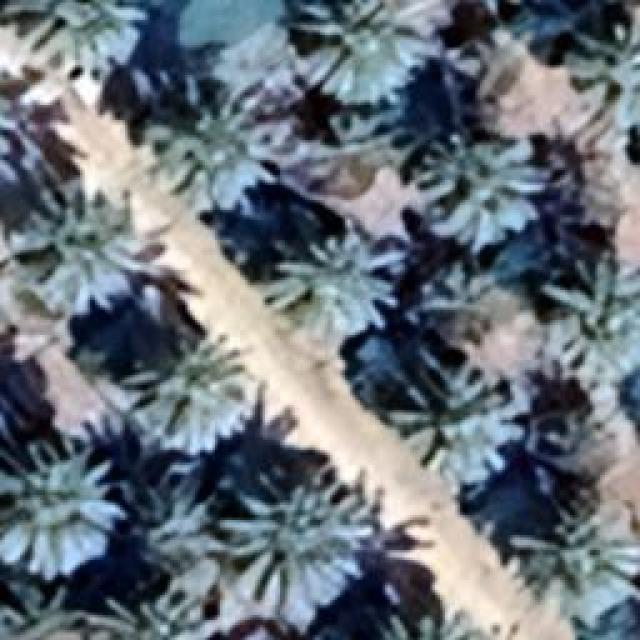PalmTree: (218, 460, 372, 625), (18, 182, 172, 320), (137, 82, 300, 210), (0, 435, 128, 580), (380, 358, 515, 490), (260, 230, 402, 350), (117, 332, 250, 458), (415, 135, 550, 255), (310, 102, 425, 240), (299, 0, 442, 102), (0, 0, 149, 75), (560, 20, 638, 155), (535, 346, 623, 464), (524, 510, 632, 585), (0, 86, 62, 195), (416, 260, 499, 340), (82, 590, 220, 638), (139, 478, 209, 566), (568, 250, 638, 325), (0, 590, 88, 638), (372, 608, 488, 638)
